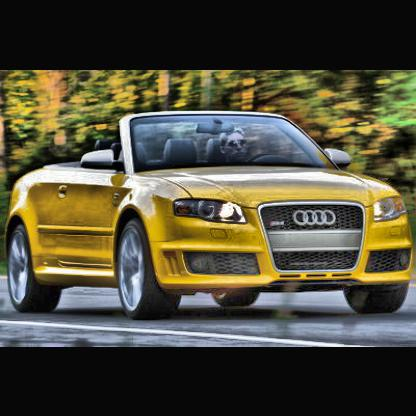Audi RS 4 Convertible 2008: (8, 111, 416, 325)
